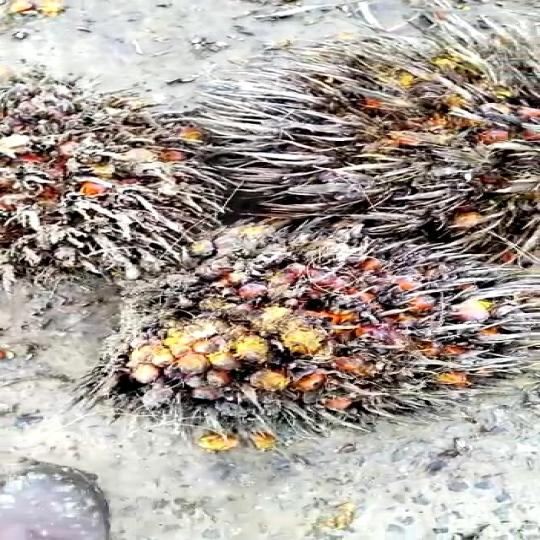terlalu masak: (86, 221, 526, 425)
